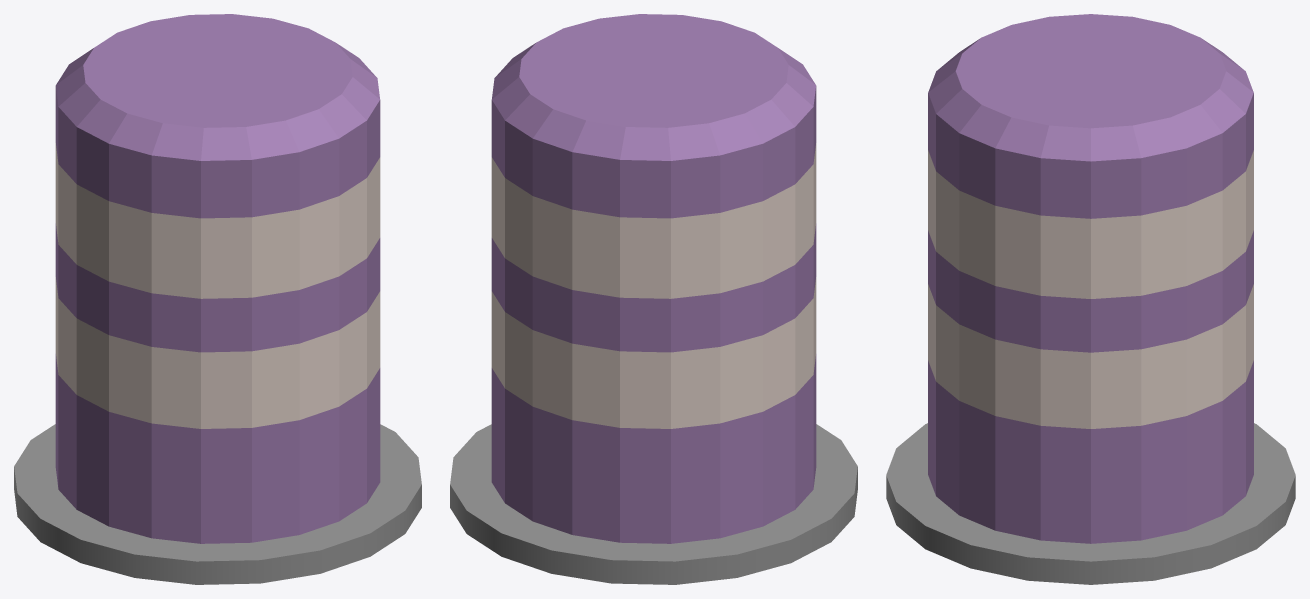
File: Safety_Cylinder.fbx
3 views of the same model, side by side, from view 1: azimuth 30°, elevation 25°; view 2: azimuth 150°, elevation 25°; view 3: azimuth 270°, elevation 25° (orthographic).
Parts seen in each view (by area): view 1: Safety_Cylinder; view 2: Safety_Cylinder; view 3: Safety_Cylinder.
Boxes of the visible parts, box(x1,y1,x2,y2) form: Safety_Cylinder: box(14, 14, 421, 584); Safety_Cylinder: box(450, 14, 857, 584); Safety_Cylinder: box(886, 14, 1295, 584).
Size of the model in its own units: 0.5139 by 0.5916 by 0.5139.
